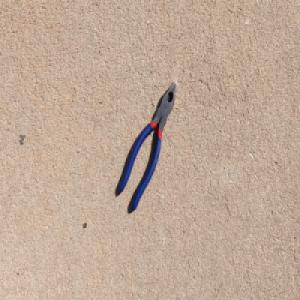Pliers: (117, 79, 178, 213)
